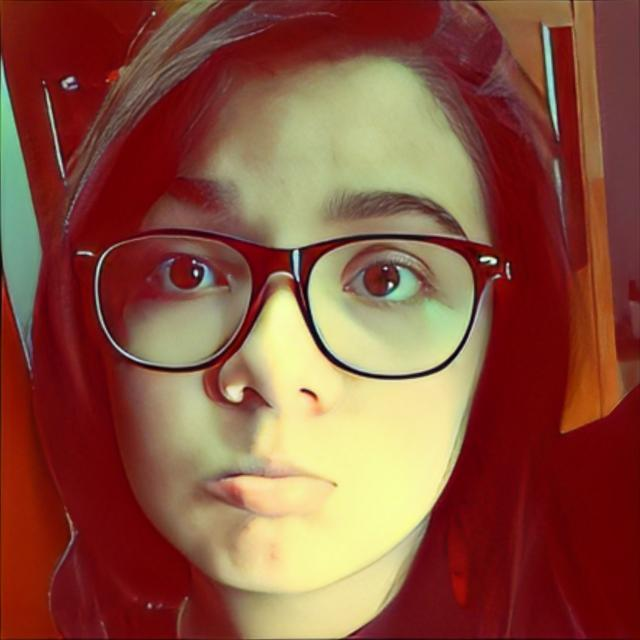neutral: (94, 41, 492, 598)
